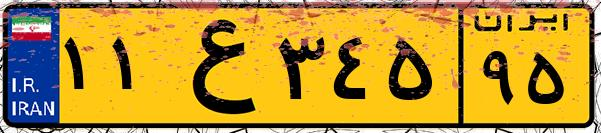1: (57, 26, 110, 100), (110, 28, 158, 98)
3: (270, 28, 330, 110)
4: (330, 28, 385, 110)
5: (385, 28, 445, 110), (525, 38, 570, 115)
9: (475, 38, 525, 113)
ع: (158, 12, 270, 120)
